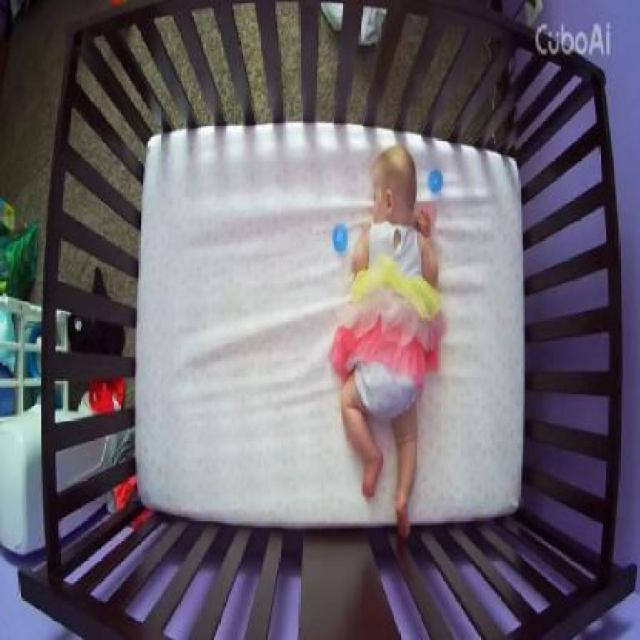baby: (326, 142, 440, 544)
